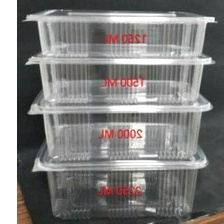plastic_box: (27, 135, 212, 223), (21, 85, 217, 166), (20, 48, 220, 109), (18, 2, 222, 61)
